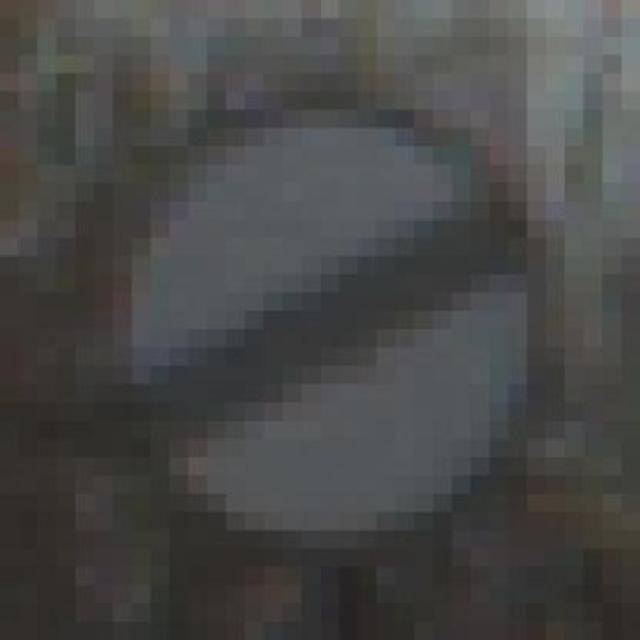End of all speed and passing limits: (71, 106, 560, 563)
